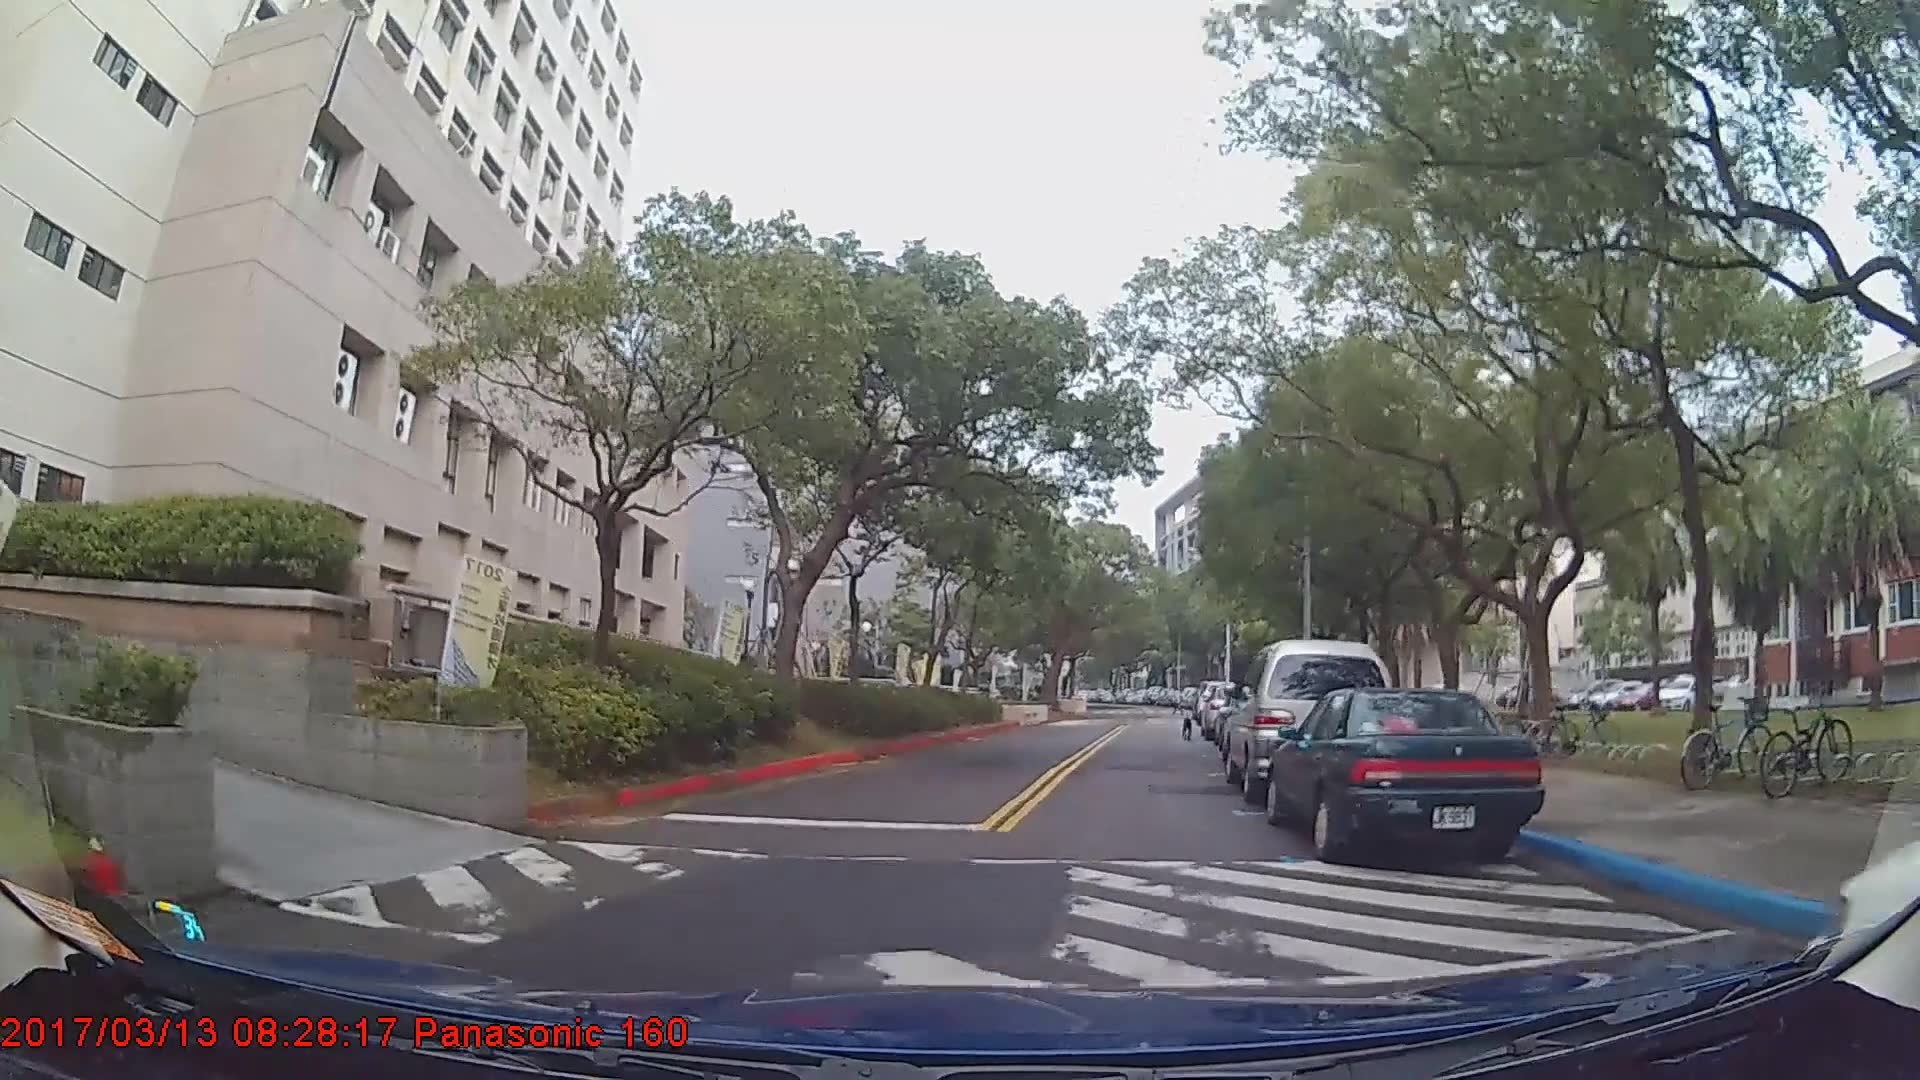vehicle: (1265, 680, 1543, 858), (1225, 636, 1394, 802)
